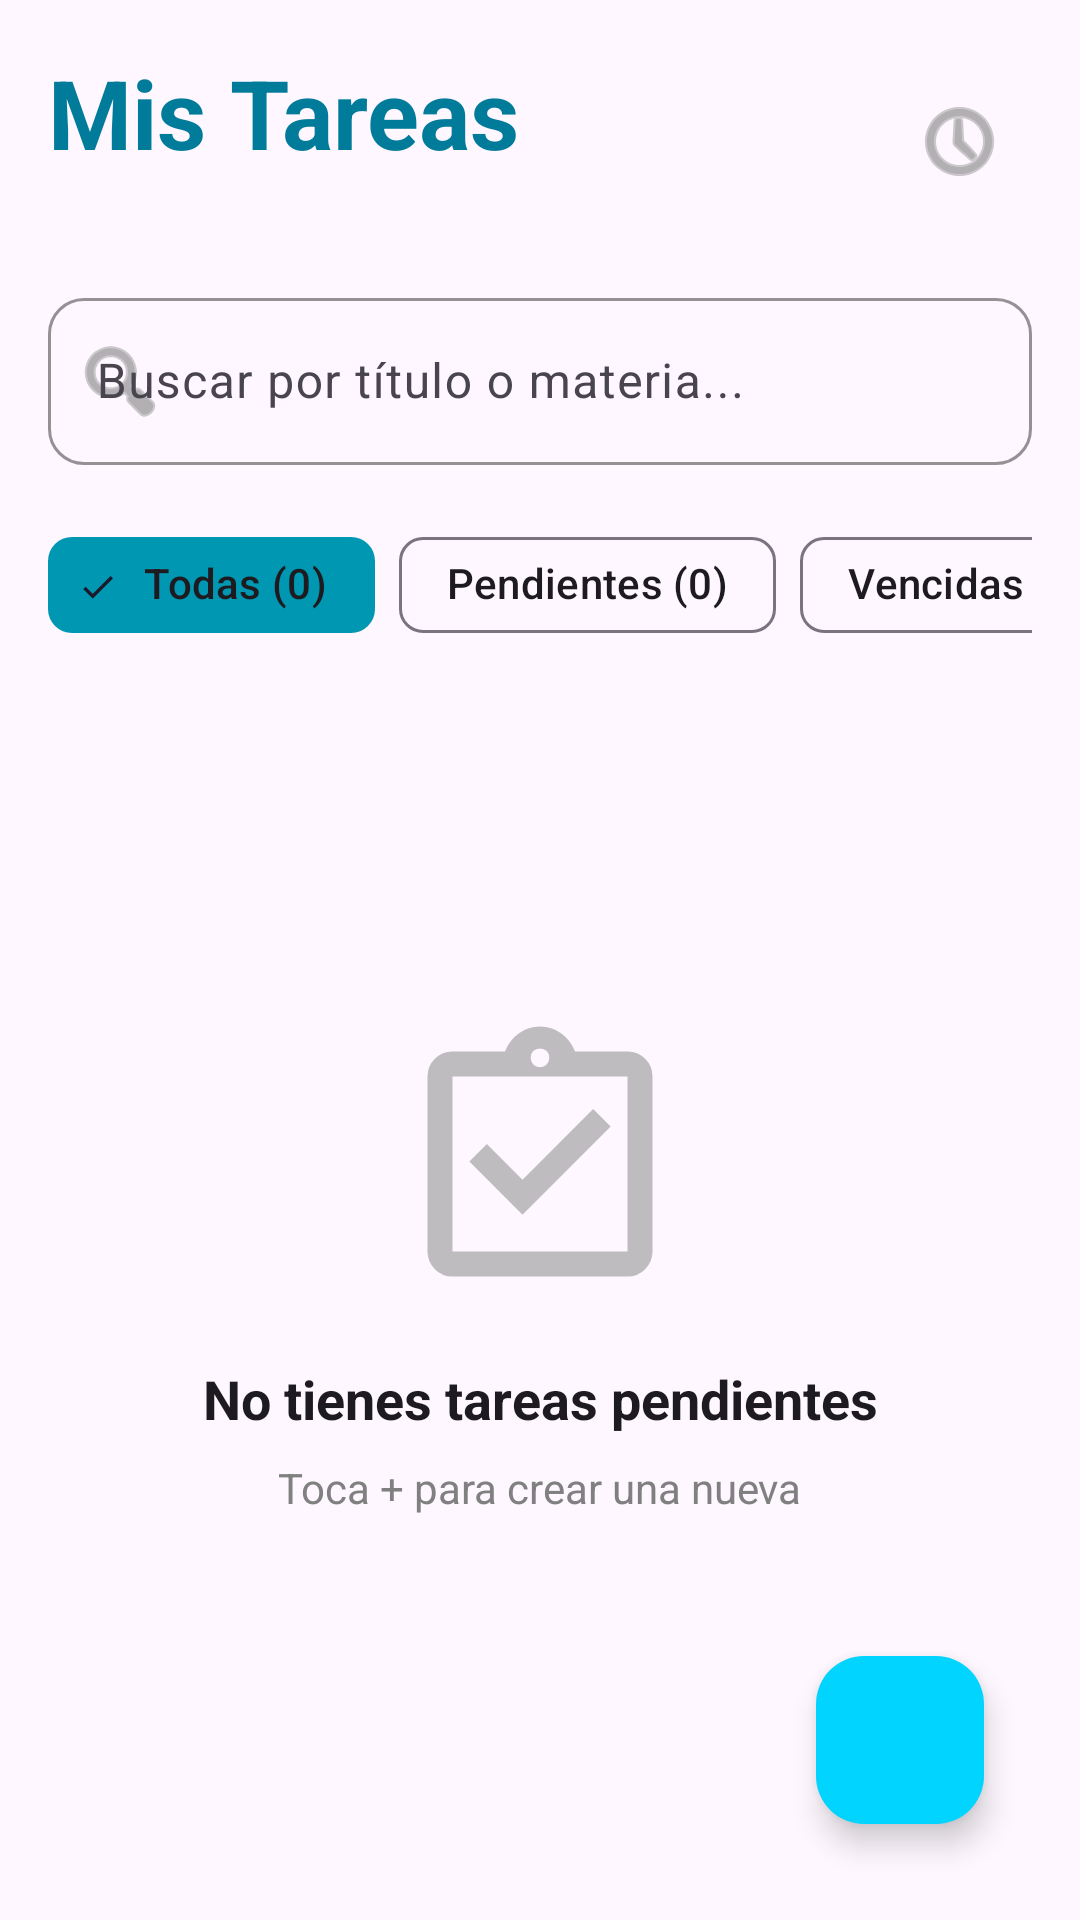

Where icons sit on this 1080×1920 app screen, as (x1, y1, x2, y2):
empty state check: (427, 1026, 653, 1277)
recent history: (925, 107, 994, 176)
